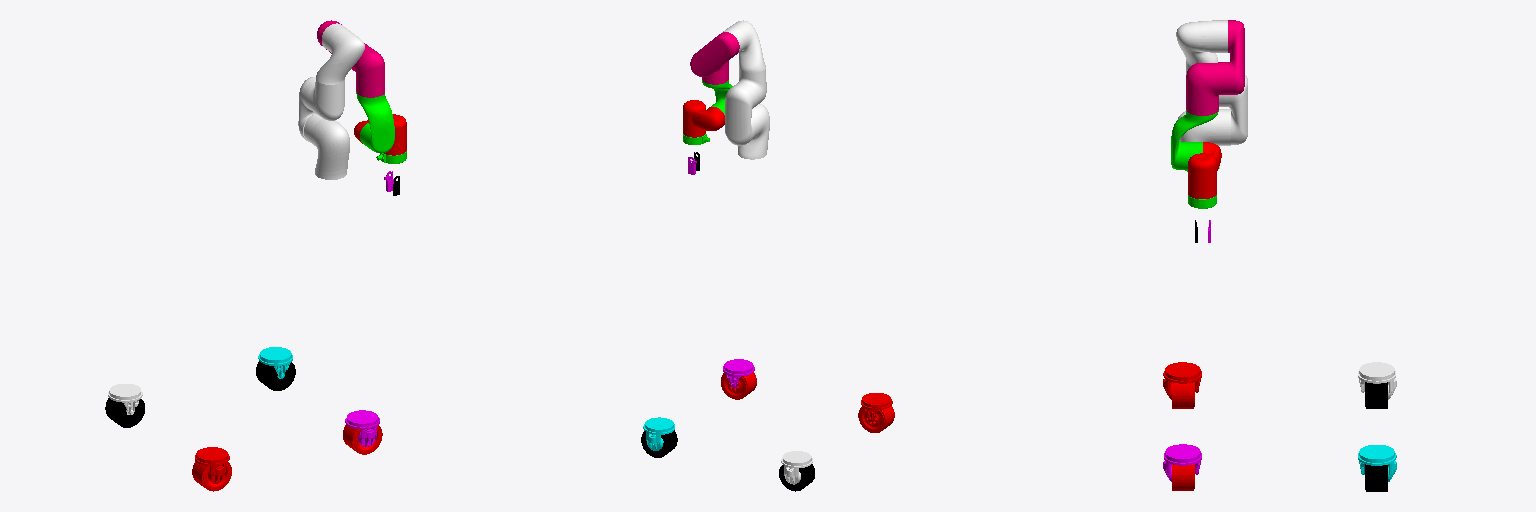
URDF robot description (demo_bot):
<?xml version="1.0" ?>
<robot name="demo_bot">
  <link name="world"/>

  <link name="Chassis_1">
    <visual name="Chassis_1_visual">
      <origin xyz="0 0 0" rpy="0 0 0"/> <!-- rotate 180 deg about Y -->
      <geometry>
        <mesh filename="package://base_urdf/meshes/Chassis_1.stl"/>
      </geometry>
      <material name="Chassis_1-material">
        <color rgba="0 1 0 1"/>
      </material>
    </visual>

    <collision name="Chassis_1_collision">
      <origin xyz="0 0 0" rpy="0 0 0"/> <!-- same rotation -->
      <geometry>
        <mesh filename="package://base_urdf/meshes/Chassis_1.stl"/>
      </geometry>
    </collision>

    <inertial>
      <mass value="1.0"/>
      <origin xyz="0.12539636 0.19884478 0.86531112" rpy="0 0 0"/> <!-- same rotation -->
      <inertia ixx="0.001439293" iyy="0.0014497902" izz="0.00088562645" ixy="6.3144702e-05" ixz="-0.00020675535" iyz="-0.00010249202"/>
    </inertial>
  </link>
  <link name="arm_shoulder241_1">
    <visual name="arm_shoulder241_1_visual">
      <origin xyz="0 0 0" rpy="0 0 0"/>
      <geometry>
        <mesh filename="package://base_urdf/meshes/arm_shoulder241_1.stl"/>
      </geometry>
      <material name="arm_shoulder241_1-material">
        <color rgba="1 1 1 1"/>
      </material>
    </visual>
    <collision name="arm_shoulder241_1_collision">
      <origin xyz="0 0 0" rpy="0 0 0"/>
      <geometry>
        <mesh filename="package://base_urdf/meshes/arm_shoulder241_1.stl"/>
      </geometry>
    </collision>
    <inertial>
      <mass value="0"/>
      <inertia ixx="0" iyy="0" izz="0" ixy="0" ixz="0" iyz="0"/>
      <origin xyz="0.10182644 -0.89319052 0.1875" rpy="0 0 0"/>
    </inertial>
  </link>
  
  <link name="arm_elbow_4_1">
    <visual name="arm_elbow_4_1_visual">
      <origin xyz="0 0 0" rpy="0 0 0"/>
      <geometry>
        <mesh filename="package://base_urdf/meshes/arm_elbow_4_1.stl"/>
      </geometry>
      <material name="arm_elbow_4_1-material">
        <color rgba="1 1 1 1"/>
      </material>
    </visual>
    <collision name="arm_elbow_4_1_collision">
      <origin xyz="0 0 0" rpy="0 0 0"/>
      <geometry>
        <mesh filename="package://base_urdf/meshes/arm_elbow_4_1.stl"/>
      </geometry>
    </collision>
    <inertial>
      <mass value="0"/>
      <inertia ixx="0" iyy="0" izz="0" ixy="0" ixz="0" iyz="0"/>
      <origin xyz="0 0 0" rpy="0 0 0"/>
    </inertial>
  </link>
  <link name="Az_Front_Left_1">
    <visual name="Az_Front_Left_1_visual">
      <origin xyz="0 0 0" rpy="0 0 0"/>
      <geometry>
        <mesh filename="package://base_urdf/meshes/Az_Front_Left_1.stl"/>
      </geometry>
      <material name="Az_Front_Left_1-material">
        <color rgba="1 0 1 1"/>
      </material>
    </visual>
    <collision name="Az_Front_Left_1_collision">
      <origin xyz="0 0 0" rpy="0 0 0"/>
      <geometry>
        <mesh filename="package://base_urdf/meshes/Az_Front_Left_1.stl"/>
      </geometry>
    </collision>
    <inertial>
      <mass value="0"/>
      <inertia ixx="0" iyy="0" izz="0" ixy="0" ixz="0" iyz="0"/>
      <origin xyz="0.066675 -0.066675 -0.10874375" rpy="0 0 0"/>
    </inertial>
  </link>
  <link name="Az_Front_right_1">
    <visual name="Az_Front_right_1_visual">
      <origin xyz="0 0 0" rpy="0 0 0"/>
      <geometry>
        <mesh filename="package://base_urdf/meshes/Az_Front_right_1.stl"/>
      </geometry>
      <material name="Az_Front_right_1-material">
        <color rgba="0 1 1 1"/>
      </material>
    </visual>
    <collision name="Az_Front_right_1_collision">
      <origin xyz="0 0 0" rpy="0 0 0"/>
      <geometry>
        <mesh filename="package://base_urdf/meshes/Az_Front_right_1.stl"/>
      </geometry>
    </collision>
    <inertial>
      <mass value="0"/>
      <inertia ixx="0" iyy="0" izz="0" ixy="0" ixz="0" iyz="0"/>
      <origin xyz="0.066675 0.066675 -0.10874375" rpy="0 0 0"/>
    </inertial>
  </link>
  <link name="Az_Back_Right_1">
    <visual name="Az_Back_Right_1_visual">
      <origin xyz="0 0 0" rpy="0 0 0"/>
      <geometry>
        <mesh filename="package://base_urdf/meshes/Az_Back_Right_1.stl"/>
      </geometry>
      <material name="Az_Back_Right_1-material">
        <color rgba="1 1 1 1"/>
      </material>
    </visual>
    <collision name="Az_Back_Right_1_collision">
      <origin xyz="0 0 0" rpy="0 0 0"/>
      <geometry>
        <mesh filename="package://base_urdf/meshes/Az_Back_Right_1.stl"/>
      </geometry>
    </collision>
    <inertial>
      <mass value="0"/>
      <inertia ixx="0" iyy="0" izz="0" ixy="0" ixz="0" iyz="0"/>
      <origin xyz="0.066675 -0.066675 -0.10874375" rpy="0 0 0"/>
    </inertial>
  </link>
  <link name="Az_Back_left_1">
    <visual name="Az_Back_left_1_visual">
      <origin xyz="0 0 0" rpy="0 0 0"/>
      <geometry>
        <mesh filename="package://base_urdf/meshes/Az_Back_left_1.stl"/>
      </geometry>
      <material name="Az_Back_left_1-material">
        <color rgba="1 0 0 1"/>
      </material>
    </visual>
    <collision name="Az_Back_left_1_collision">
      <origin xyz="0 0 0" rpy="0 0 0"/>
      <geometry>
        <mesh filename="package://base_urdf/meshes/Az_Back_left_1.stl"/>
      </geometry>
    </collision>
    <inertial>
      <mass value="0"/>
      <inertia ixx="0" iyy="0" izz="0" ixy="0" ixz="0" iyz="0"/>
      <origin xyz="0.066675 0.066675 -0.10874375" rpy="0 0 0"/>
    </inertial>
  </link>
  <link name="elbow2_p4_1">
    <visual name="elbow2_p4_1_visual">
      <origin xyz="0 0 0" rpy="0 0 0"/>
      <geometry>
        <mesh filename="package://base_urdf/meshes/elbow2_p4_1.stl"/>
      </geometry>
      <material name="elbow2_p4_1-material">
        <color rgba="1 0 0.5 1"/>
      </material>
    </visual>
    <collision name="elbow2_p4_1_collision">
      <origin xyz="0 0 0" rpy="0 0 0"/>
      <geometry>
        <mesh filename="package://base_urdf/meshes/elbow2_p4_1.stl"/>
      </geometry>
    </collision>
    <inertial>
      <mass value="0"/>
      <inertia ixx="0" iyy="0" izz="0" ixy="0" ixz="0" iyz="0"/>
      <origin xyz="-0.16933092 -0.08577945 0.06658" rpy="0 0 0"/>
    </inertial>
  </link>
  <link name="Wheel_Front_Left_1">
    <visual name="Wheel_Front_Left_1_visual">
      <origin xyz="0 0 0" rpy="0 0 0"/>
      <geometry>
        <mesh filename="package://base_urdf/meshes/Wheel_Front_Left_1.stl"/>
      </geometry>
      <material name="Wheel_Front_Left_1-material">
        <color rgba="1 0 0 1"/>
      </material>
    </visual>
    <collision name="Wheel_Front_Left_1_collision">
      <origin xyz="0 0 0" rpy="0 0 0"/>
      <geometry>
        <mesh filename="package://base_urdf/meshes/Wheel_Front_Left_1.stl"/>
      </geometry>
    </collision>
    <inertial>
      <mass value="0"/>
      <inertia ixx="0" iyy="0" izz="0" ixy="0" ixz="0" iyz="0"/>
      <origin xyz="0.066675 0.0508 -0.06874688" rpy="0 0 0"/>
    </inertial>
  </link>
  <link name="Wheel_Front_Right_1">
    <visual name="Wheel_Front_Right_1_visual">
      <origin xyz="0 0 0" rpy="0 0 0"/>
      <geometry>
        <mesh filename="package://base_urdf/meshes/Wheel_Front_Right_1.stl"/>
      </geometry>
      <material name="Wheel_Front_Right_1-material">
        <color rgba="0 0 0 1"/>
      </material>
    </visual>
    <collision name="Wheel_Front_Right_1_collision">
      <origin xyz="0 0 0" rpy="0 0 0"/>
      <geometry>
        <mesh filename="package://base_urdf/meshes/Wheel_Front_Right_1.stl"/>
      </geometry>
    </collision>
    <inertial>
      <mass value="0"/>
      <inertia ixx="0" iyy="0" izz="0" ixy="0" ixz="0" iyz="0"/>
      <origin xyz="0.066675 -0.0508 -0.06874688" rpy="0 0 0"/>
    </inertial>
  </link>
  <link name="Wheel_Back_Right_1">
    <visual name="Wheel_Back_Right_1_visual">
      <origin xyz="0 0 0" rpy="0 0 0"/>
      <geometry>
        <mesh filename="package://base_urdf/meshes/Wheel_Back_Right_1.stl"/>
      </geometry>
      <material name="Wheel_Back_Right_1-material">
        <color rgba="0 0 0 1"/>
      </material>
    </visual>
    <collision name="Wheel_Back_Right_1_collision">
      <origin xyz="0 0 0" rpy="0 0 0"/>
      <geometry>
        <mesh filename="package://base_urdf/meshes/Wheel_Back_Right_1.stl"/>
      </geometry>
    </collision>
    <inertial>
      <mass value="0"/>
      <inertia ixx="0" iyy="0" izz="0" ixy="0" ixz="0" iyz="0"/>
      <origin xyz="0.066675 0.0508 -0.06874688" rpy="0 0 0"/>
    </inertial>
  </link>
  <link name="Wheel_Back_Left_1">
    <visual name="Wheel_Back_Left_1_visual">
      <origin xyz="0 0 0" rpy="0 0 0"/>
      <geometry>
        <mesh filename="package://base_urdf/meshes/Wheel_Back_Left_1.stl"/>
      </geometry>
      <material name="Wheel_Back_Left_1-material">
        <color rgba="1 0 0 1"/>
      </material>
    </visual>
    <collision name="Wheel_Back_Left_1_collision">
      <origin xyz="0 0 0" rpy="0 0 0"/>
      <geometry>
        <mesh filename="package://base_urdf/meshes/Wheel_Back_Left_1.stl"/>
      </geometry>
    </collision>
    <inertial>
      <mass value="0"/>
      <inertia ixx="0" iyy="0" izz="0" ixy="0" ixz="0" iyz="0"/>
      <origin xyz="0.066675 -0.0508 -0.06874688" rpy="0 0 0"/>
    </inertial>
  </link>
  <link name="wrist_1_p4_1">
    <visual name="wrist_1_p4_1_visual">
      <origin xyz="0 0 0" rpy="0 0 0"/>
      <geometry>
        <mesh filename="package://base_urdf/meshes/wrist_1_p4_1.stl"/>
      </geometry>
      <material name="wrist_1_p4_1-material">
        <color rgba="0 1 0 1"/>
      </material>
    </visual>
    <collision name="wrist_1_p4_1_collision">
      <origin xyz="0 0 0" rpy="0 0 0"/>
      <geometry>
        <mesh filename="package://base_urdf/meshes/wrist_1_p4_1.stl"/>
      </geometry>
    </collision>
    <inertial>
      <mass value="0"/>
      <inertia ixx="0" iyy="0" izz="0" ixy="0" ixz="0" iyz="0"/>
      <origin xyz="1.23e-06 1.02e-06 -0.13555" rpy="0 0 0"/>
    </inertial>
  </link>
  <link name="wrist_2_p4_1">
    <visual name="wrist_2_p4_1_visual">
      <origin xyz="0 0 0" rpy="0 0 0"/>
      <geometry>
        <mesh filename="package://base_urdf/meshes/wrist_2_p4_1.stl"/>
      </geometry>
      <material name="wrist_2_p4_1-material">
        <color rgba="1 0 0 1"/>
      </material>
    </visual>
    <collision name="wrist_2_p4_1_collision">
      <origin xyz="0 0 0" rpy="0 0 0"/>
      <geometry>
        <mesh filename="package://base_urdf/meshes/wrist_2_p4_1.stl"/>
      </geometry>
    </collision>
    <inertial>
      <mass value="0"/>
      <inertia ixx="0" iyy="0" izz="0" ixy="0" ixz="0" iyz="0"/>
      <origin xyz="-0.07700037 0.07099971 0" rpy="0 0 0"/>
    </inertial>
  </link>
  <link name="end_effector_p4_1">
    <visual name="end_effector_p4_1_visual">
      <origin xyz="0 0 0" rpy="0 0 0"/>
      <geometry>
        <mesh filename="package://base_urdf/meshes/end_effector_p4_1.stl"/>
      </geometry>
      <material name="end_effector_p4_1-material">
        <color rgba="0 1 0 1"/>
      </material>
    </visual>
    <collision name="end_effector_p4_1_collision">
      <origin xyz="0 0 0" rpy="0 0 0"/>
      <geometry>
        <mesh filename="package://base_urdf/meshes/end_effector_p4_1.stl"/>
      </geometry>
    </collision>
    <inertial>
      <mass value="0"/>
      <inertia ixx="0" iyy="0" izz="0" ixy="0" ixz="0" iyz="0"/>
      <origin xyz="0 0 0" rpy="0 0 0"/>
    </inertial>
  </link>
  <link name="gripper_v43_1">
    <visual name="gripper_v43_1_visual">
      <origin xyz="0 0 0" rpy="0 0 0"/>
      <geometry>
        <mesh filename="package://base_urdf/meshes/gripper_v43_1.stl"/>
      </geometry>
      <material name="gripper_v43_1-material">
        <color rgba="0 1 1 1"/>
      </material>
    </visual>
    <collision name="gripper_v43_1_collision">
      <origin xyz="0 0 0" rpy="0 0 0"/>
      <geometry>
        <mesh filename="package://base_urdf/meshes/gripper_v43_1.stl"/>
      </geometry>
    </collision>
    <inertial>
      <mass value="0"/>
      <inertia ixx="4.7330999e-05" iyy="5.6165087e-05" izz="8.899687e-06" ixy="-5.143336e-07" ixz="2.0307483e-05" iyz="1.2067671e-06"/>
      <origin xyz="-0.13302009 -0.0071296716 0.33095774" rpy="0 0 0"/>
    </inertial>
  </link>
  <link name="Finger_left_2">
    <visual name="Finger_left_2_visual">
      <origin xyz="0 0 0" rpy="0 0 0"/>
      <geometry>
        <mesh filename="package://base_urdf/meshes/Finger_left_2.stl"/>
      </geometry>
      <material name="Finger_left_2-material">
        <color rgba="0 0 0 1"/>
      </material>
    </visual>
    <collision name="Finger_left_2_collision">
      <origin xyz="0 0 0" rpy="0 0 0"/>
      <geometry>
        <mesh filename="package://base_urdf/meshes/Finger_left_2.stl"/>
      </geometry>
    </collision>
    <inertial>
      <mass value="0"/>
      <inertia ixx="0" iyy="0" izz="0" ixy="0" ixz="0" iyz="0"/>
      <origin xyz="0 0 0.0315" rpy="0 0 0"/>
    </inertial>
  </link>
  <link name="Finger_right_2">
    <visual name="Finger_right_2_visual">
      <origin xyz="0 0 0" rpy="0 0 0"/>
      <geometry>
        <mesh filename="package://base_urdf/meshes/Finger_right_2.stl"/>
      </geometry>
      <material name="Finger_right_2-material">
        <color rgba="1 0 1 1"/>
      </material>
    </visual>
    <collision name="Finger_right_2_collision">
      <origin xyz="0 0 0" rpy="0 0 0"/>
      <geometry>
        <mesh filename="package://base_urdf/meshes/Finger_right_2.stl"/>
      </geometry>
    </collision>
    <inertial>
      <mass value="0"/>
      <inertia ixx="0" iyy="0" izz="0" ixy="0" ixz="0" iyz="0"/>
      <origin xyz="0 0 0.0315" rpy="0 0 0"/>
    </inertial>
  </link>

  <joint name="Revolute_9" type="revolute">
    <origin xyz="0 0 0" rpy="-3.14159261  0 3.13783310"/>
    <parent link="Chassis_1"/>
    <child link="arm_shoulder241_1"/>
    <axis xyz="0 0 -1"/>
    <limit effort="50.0" velocity="3.14" lower="-6.2831853" upper="6.2831853"/>
  </joint>
  <joint name="Revolute_10" type="revolute">
    <origin xyz="-0.00320691 0.077 0.11500004" rpy="1.5670368 -1.5707963 0"/>
    <parent link="arm_shoulder241_1"/>
    <child link="arm_elbow_4_1"/>
    <axis xyz="0 0 -1"/>
    <limit effort="50.0" velocity="3.14" lower="-2.059" upper="2.0944"/>
  </joint>
  <joint name="Revolute_5" type="revolute">
    <origin xyz="-0.078325 -0.04888 0.78425625" rpy="-3.1415927 2.220446e-16 3.1415927"/>
    <parent link="Chassis_1"/>
    <child link="Az_Front_Left_1"/>
    <axis xyz="0 0 -1"/>
    <limit effort="1" velocity="1" lower="-6.2831853" upper="6.2831853"/>
  </joint>
  <joint name="Revolute_6" type="revolute">
    <origin xyz="-0.078325 0.45852665 0.7848579" rpy="-3.1415927 0 3.1415927"/>
    <parent link="Chassis_1"/>
    <child link="Az_Front_right_1"/>
    <axis xyz="0 0 -1"/>
    <limit effort="1" velocity="1" lower="-6.2831853" upper="6.2831853"/>
  </joint>
  <joint name="Revolute_7" type="revolute">
    <origin xyz="0.429084 0.458325 0.78425625" rpy="3.1415927 0 -1.3722357e-13"/>
    <parent link="Chassis_1"/>
    <child link="Az_Back_Right_1"/>
    <axis xyz="0 0 -1"/>
    <limit effort="1" velocity="1" lower="-6.2831853" upper="6.2831853"/>
  </joint>
  <joint name="Revolute_8" type="revolute">
    <origin xyz="0.429084 -0.049087 0.78425625" rpy="3.1415927 0 2.7311486e-14"/>
    <parent link="Chassis_1"/>
    <child link="Az_Back_left_1"/>
    <axis xyz="0 0 -1"/>
    <limit effort="1" velocity="1" lower="-6.2831853" upper="6.2831853"/>
  </joint>
  <joint name="Revolute_11" type="revolute">
    <origin xyz="0.28467 -0.05322 0.00817" rpy="0 0 0"/>
    <parent link="arm_elbow_4_1"/>
    <child link="elbow2_p4_1"/>
    <axis xyz="0 0 -1"/>
    <limit effort="32.0" velocity="3.14" lower="-3.927" upper="0.19198"/>
  </joint>
  <joint name="Revolute_1" type="revolute">
    <origin xyz="0 0.0024615 -0.05794375" rpy="-1.5707963 0 0"/>
    <parent link="Az_Front_Left_1"/>
    <child link="Wheel_Front_Left_1"/>
    <axis xyz="0 0 -1"/>
    <limit effort="1" velocity="1" lower="-6.2831853" upper="6.2831853"/>
  </joint>
  <joint name="Revolute_2" type="revolute">
    <origin xyz="0 -0.0024615 -0.05794375" rpy="1.5707963 0 0"/>
    <parent link="Az_Front_right_1"/>
    <child link="Wheel_Front_Right_1"/>
    <axis xyz="0 0 -1"/>
    <limit effort="1" velocity="1" lower="-6.2831853" upper="6.2831853"/>
  </joint>
  <joint name="Revolute_3" type="revolute">
    <origin xyz="0 0.0024615 -0.05794375" rpy="-1.5707963 0 0"/>
    <parent link="Az_Back_Right_1"/>
    <child link="Wheel_Back_Right_1"/>
    <axis xyz="0 0 -1"/>
    <limit effort="1" velocity="1" lower="-6.2831853" upper="6.2831853"/>
  </joint>
  <joint name="Revolute_4" type="revolute">
    <origin xyz="0 -0.0024615 -0.05794375" rpy="1.5707963 0 0"/>
    <parent link="Az_Back_left_1"/>
    <child link="Wheel_Back_Left_1"/>
    <axis xyz="0 0 -1"/>
    <limit effort="1" velocity="1" lower="-6.2831853" upper="6.2831853"/>
  </joint>
  <joint name="Revolute_12" type="revolute">
    <origin xyz="-0.16933092 -0.08577945 0.06658" rpy="-0 1.5707963 0"/>
    <parent link="elbow2_p4_1"/>
    <child link="wrist_1_p4_1"/>
    <axis xyz="0 0 -1"/>
    <limit effort="32.0" velocity="3.14" lower="-6.2831853" upper="6.2831853"/>
  </joint>
  <joint name="Revolute_13" type="revolute">
    <origin xyz="1.23e-06 1.02e-06 -0.13555" rpy="-1.5707963 0 1.5707963"/>
    <parent link="wrist_1_p4_1"/>
    <child link="wrist_2_p4_1"/>
    <axis xyz="0 0 -1"/>
    <limit effort="32.0" velocity="3.14" lower="-1.69297" upper="3.14159261"/>
  </joint>
  <joint name="Revolute_14" type="revolute">
    <origin xyz="-0.07700037 0.07099971 0" rpy="1.5707963 0 0"/>
    <parent link="wrist_2_p4_1"/>
    <child link="end_effector_p4_1"/>
    <axis xyz="0 0 -1"/>
    <limit effort="20.0" velocity="3.14" lower="-3.14159261" upper="3.14159261"/>
  </joint>
  <joint name="Fastened_1" type="fixed">
    <origin xyz="0 0 -0.028" rpy="0 0 1.5707963"/>
    <parent link="end_effector_p4_1"/>
    <child link="gripper_v43_1"/>
  </joint>
  <joint name="Slider_1" type="prismatic">
    <origin xyz="0.016102783 0.00075805863 -0.060041236" rpy="-1.5707963 -1.4714163e-10 1.6231719"/>
    <parent link="gripper_v43_1"/>
    <child link="Finger_left_2"/>
    <axis xyz="0 0 -1"/>
    <limit effort="1" velocity="1" lower="-0.1" upper="0.1"/>
  </joint>
  <joint name="Slider_2" type="prismatic">
    <origin xyz="-0.018640596 -0.0010633098 -0.060041236" rpy="1.5707963 -1.4714141e-10 1.6231719"/>
    <parent link="gripper_v43_1"/>
    <child link="Finger_right_2"/>
    <axis xyz="0 0 -1"/>
    <limit effort="1" velocity="1" lower="-0.1" upper="0.1"/>
  </joint>
    <joint name="world_to_robot" type="fixed">
    <parent link="world"/>
    <child link="Chassis_1"/>
    <origin xyz="0 0 0.893" rpy="0 3.14159261 0"/>  <!-- flip around X -->
  </joint>
</robot>

--- Facts derived from the render (not from the file) ---
The picture shows the robot from 3 angles, left to right: view 1: azimuth 30°, elevation 25°; view 2: azimuth 150°, elevation 25°; view 3: azimuth 270°, elevation 25°; orthographic projection.
Robot: demo_bot — 19 links, 18 joints (14 revolute, 2 prismatic, 2 fixed); root link world; default pose: every joint at zero.
Links seen in each view (by area): view 1: arm_elbow_4_1, arm_shoulder241_1, wrist_1_p4_1, elbow2_p4_1, Az_Front_Left_1, Az_Back_left_1, Wheel_Back_Right_1, Wheel_Front_Right_1, Az_Front_right_1, Az_Back_Right_1, wrist_2_p4_1, Wheel_Back_Left_1 (+1 smaller); view 2: arm_elbow_4_1, elbow2_p4_1, wrist_2_p4_1, arm_shoulder241_1, Az_Front_right_1, Az_Back_Right_1, Wheel_Front_Left_1, Wheel_Back_Left_1, Az_Back_left_1, Az_Front_Left_1; view 3: elbow2_p4_1, arm_elbow_4_1, wrist_2_p4_1, wrist_1_p4_1, arm_shoulder241_1, Az_Back_Right_1, Az_Back_left_1, Az_Front_Left_1, Az_Front_right_1, Wheel_Front_Right_1, Wheel_Front_Left_1, Wheel_Back_Right_1 (+1 smaller).
Boxes of the visible links, x1=… form: arm_elbow_4_1: x1=298, y1=23, x2=364, y2=141; arm_shoulder241_1: x1=304, y1=114, x2=349, y2=179; wrist_1_p4_1: x1=356, y1=92, x2=394, y2=152; elbow2_p4_1: x1=317, y1=20, x2=384, y2=97; Az_Front_Left_1: x1=345, y1=410, x2=379, y2=446; Az_Back_left_1: x1=195, y1=447, x2=229, y2=483; Wheel_Back_Right_1: x1=105, y1=398, x2=144, y2=427; Wheel_Front_Right_1: x1=256, y1=361, x2=295, y2=390; Az_Front_right_1: x1=258, y1=347, x2=292, y2=378; Az_Back_Right_1: x1=108, y1=384, x2=142, y2=414; wrist_2_p4_1: x1=354, y1=114, x2=406, y2=155; Wheel_Back_Left_1: x1=192, y1=461, x2=231, y2=491; arm_elbow_4_1: x1=722, y1=20, x2=766, y2=145; elbow2_p4_1: x1=690, y1=32, x2=739, y2=84; wrist_2_p4_1: x1=683, y1=100, x2=724, y2=137; arm_shoulder241_1: x1=738, y1=104, x2=769, y2=159; Az_Front_right_1: x1=643, y1=417, x2=674, y2=450; Az_Back_Right_1: x1=781, y1=451, x2=812, y2=484; Wheel_Front_Left_1: x1=721, y1=372, x2=756, y2=399; Wheel_Back_Left_1: x1=858, y1=406, x2=894, y2=432; Az_Back_left_1: x1=861, y1=393, x2=892, y2=421; Az_Front_Left_1: x1=723, y1=359, x2=754, y2=387; elbow2_p4_1: x1=1186, y1=20, x2=1244, y2=115; arm_elbow_4_1: x1=1176, y1=20, x2=1247, y2=144; wrist_2_p4_1: x1=1188, y1=142, x2=1221, y2=198; wrist_1_p4_1: x1=1171, y1=110, x2=1218, y2=170; arm_shoulder241_1: x1=1178, y1=109, x2=1230, y2=171; Az_Back_Right_1: x1=1358, y1=362, x2=1396, y2=399; Az_Back_left_1: x1=1163, y1=362, x2=1201, y2=399; Az_Front_Left_1: x1=1163, y1=444, x2=1201, y2=481; Az_Front_right_1: x1=1358, y1=445, x2=1396, y2=481; Wheel_Front_Right_1: x1=1365, y1=464, x2=1387, y2=491; Wheel_Front_Left_1: x1=1172, y1=464, x2=1194, y2=490; Wheel_Back_Right_1: x1=1365, y1=382, x2=1387, y2=408.
Bounding box of the posed robot: 0.7299 × 0.6101 × 1.34 m (x, y, z).
16 mesh visuals loaded from 18 distinct referenced files (16 binary STL); not drawn: 2 (reference not matched to a file when rendering).
